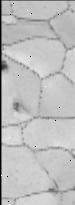good_void: (12, 97, 31, 114), (1, 59, 8, 72), (47, 186, 57, 193)
